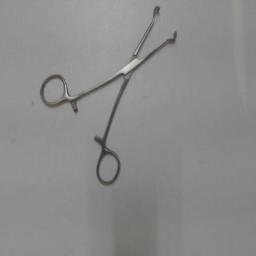Babcock Tissue Forceps: (37, 1, 181, 189)
